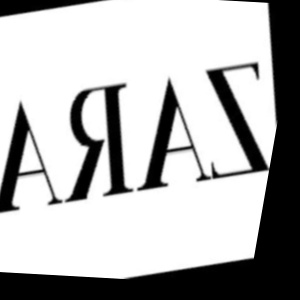zara: (283, 28, 294, 75)
